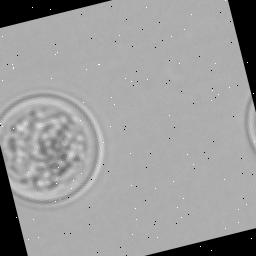picoshell: (0, 92, 106, 208), (247, 97, 256, 151)
